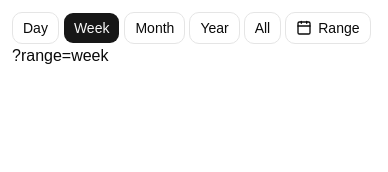
Test case: SortControls › updates range on click
Click the button "Month" at (155, 28), box [124,12,185,44]
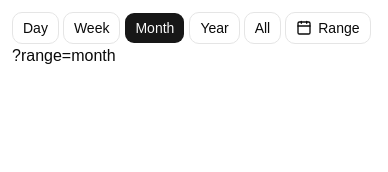
Now the text with test id "location" reads "?range=month", box [12,47,116,64]
